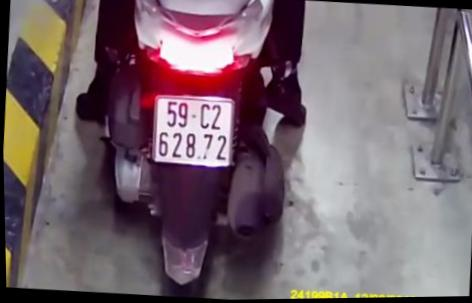LP: (147, 92, 237, 172)
